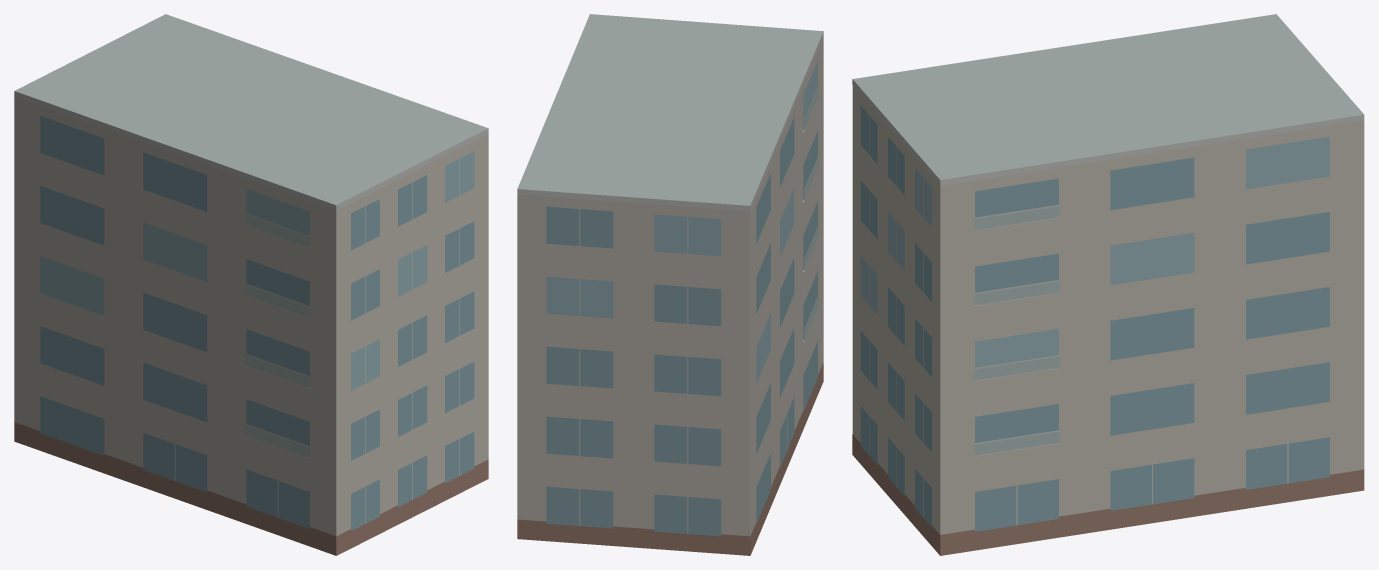
File: survey-upis-32865618.glb
The picture shows the model from 3 angles, left to right: view 1: azimuth 30°, elevation 25°; view 2: azimuth 150°, elevation 25°; view 3: azimuth 270°, elevation 25°; orthographic projection. The views are drawn at different scales.
Parts seen in each view (by area): view 1: survey-upis-32865618.tmp; view 2: survey-upis-32865618.tmp; view 3: survey-upis-32865618.tmp.
Boxes of the visible parts, bbox=[...] form: survey-upis-32865618.tmp: bbox=[14, 14, 488, 555]; survey-upis-32865618.tmp: bbox=[517, 14, 823, 555]; survey-upis-32865618.tmp: bbox=[852, 14, 1364, 555].
Bounding box in the file's own units: 14.98 × 15.8 × 19.51.
